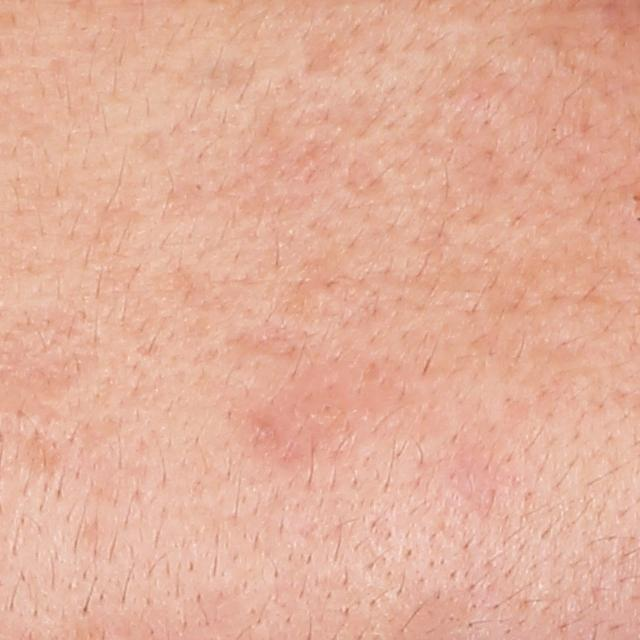atrophic_scar: (298, 22, 348, 74)
